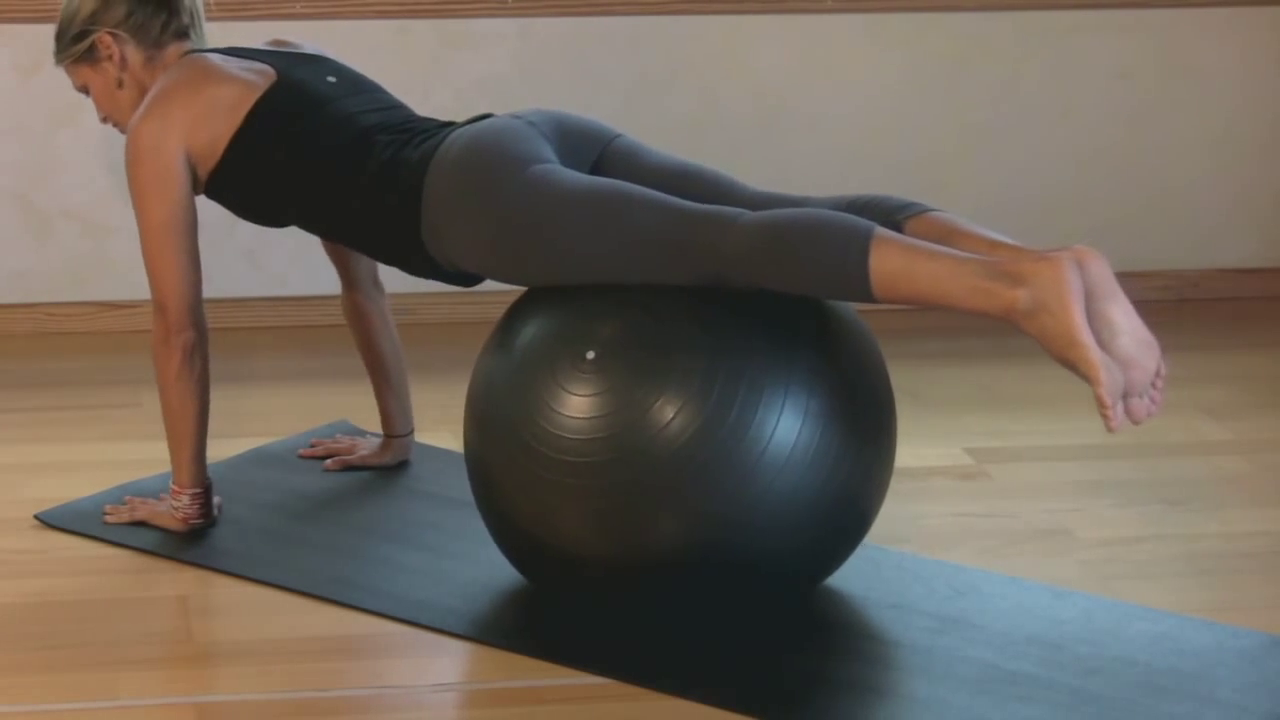yogaball: (458, 278, 930, 634)
